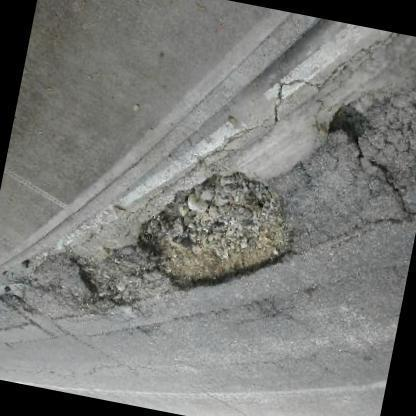pothole: (136, 169, 294, 294), (325, 106, 416, 226), (72, 247, 140, 308), (0, 284, 34, 316)
